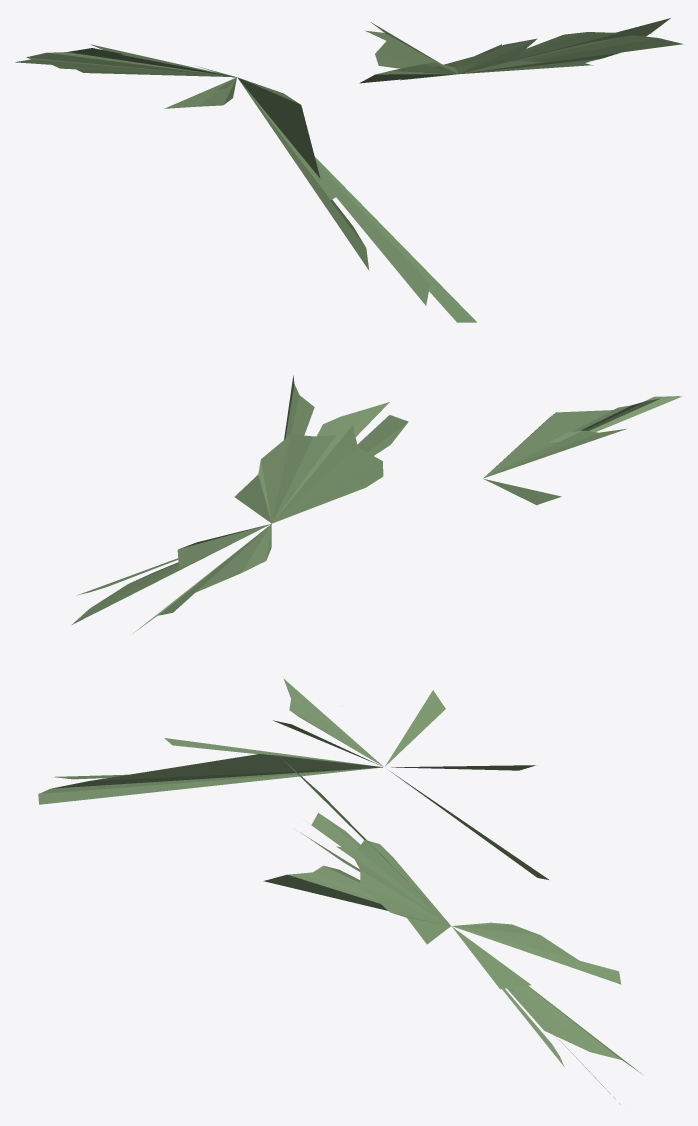
The model's file is c_1665_17819_parks.glb.
3 renders of one model, top to bottom at view 1: azimuth 30°, elevation 25°; view 2: azimuth 150°, elevation 25°; view 3: azimuth 270°, elevation 25°, orthographic. The views are drawn at different scales.
Visible parts, largest first — view 1: geometry_0; view 2: geometry_0; view 3: geometry_0.
Part boxes in pixels (x1,y1,x2,y2): geometry_0: [15, 18, 683, 322]; geometry_0: [72, 375, 682, 633]; geometry_0: [38, 678, 642, 1104].
Bounding box in the file's own units: 394 × 161 × 477.
